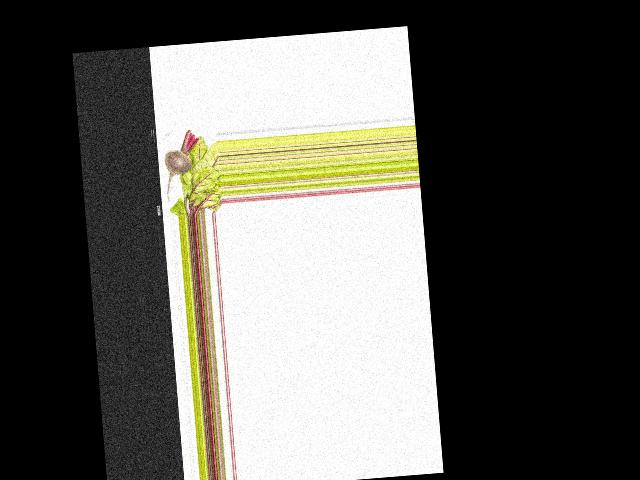beet: (161, 129, 203, 201)
